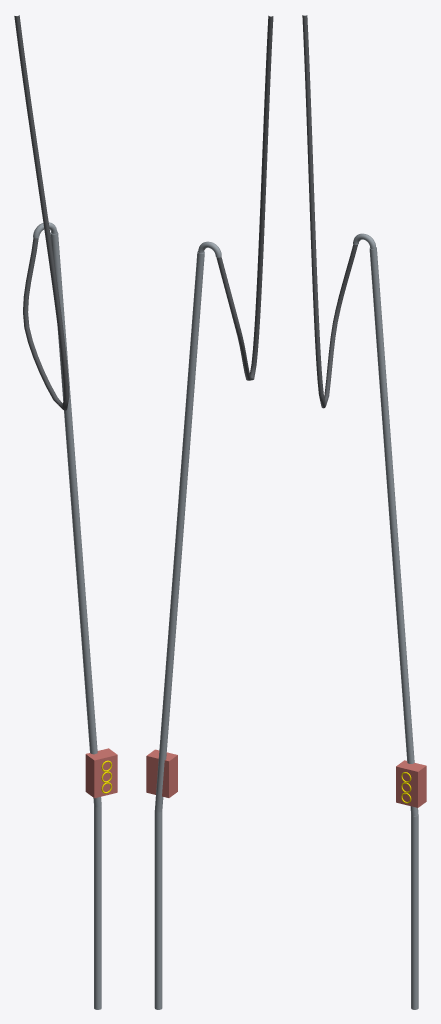
The model's file is standpipe.glb.
3 views of the same model, side by side, from view 1: azimuth 30°, elevation 25°; view 2: azimuth 150°, elevation 25°; view 3: azimuth 330°, elevation 25° (orthographic). The views are drawn at different scales.
Bounding box in the file's own units: 4.34 × 38.12 × 2.48.
